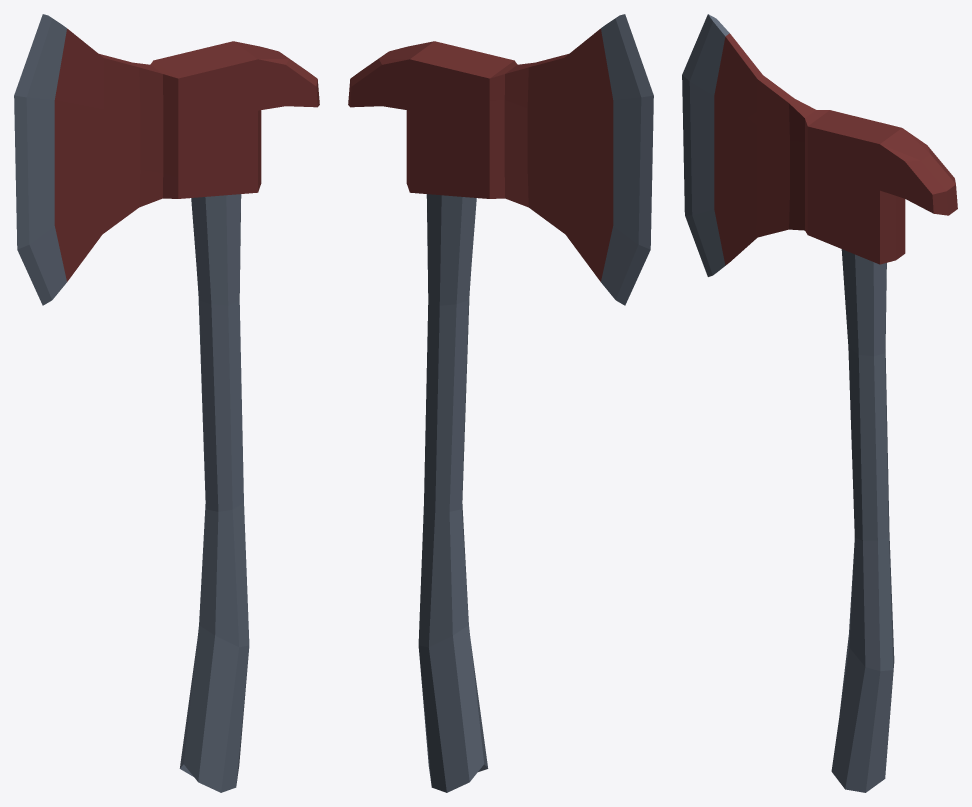
Rendered from iron_axe.glb.
3 renders of one model, left to right at view 1: azimuth 30°, elevation 25°; view 2: azimuth 150°, elevation 25°; view 3: azimuth 330°, elevation 25°, orthographic. The views are drawn at different scales.
Parts seen in each view (by area): view 1: iron_axe; view 2: iron_axe; view 3: iron_axe.
Part boxes in pixels (x1,y1,x2,y2): iron_axe: [14, 14, 319, 792]; iron_axe: [348, 14, 653, 792]; iron_axe: [682, 14, 957, 792].
Bounding box in the file's own units: 0.2636 × 0.68 × 0.0397.
